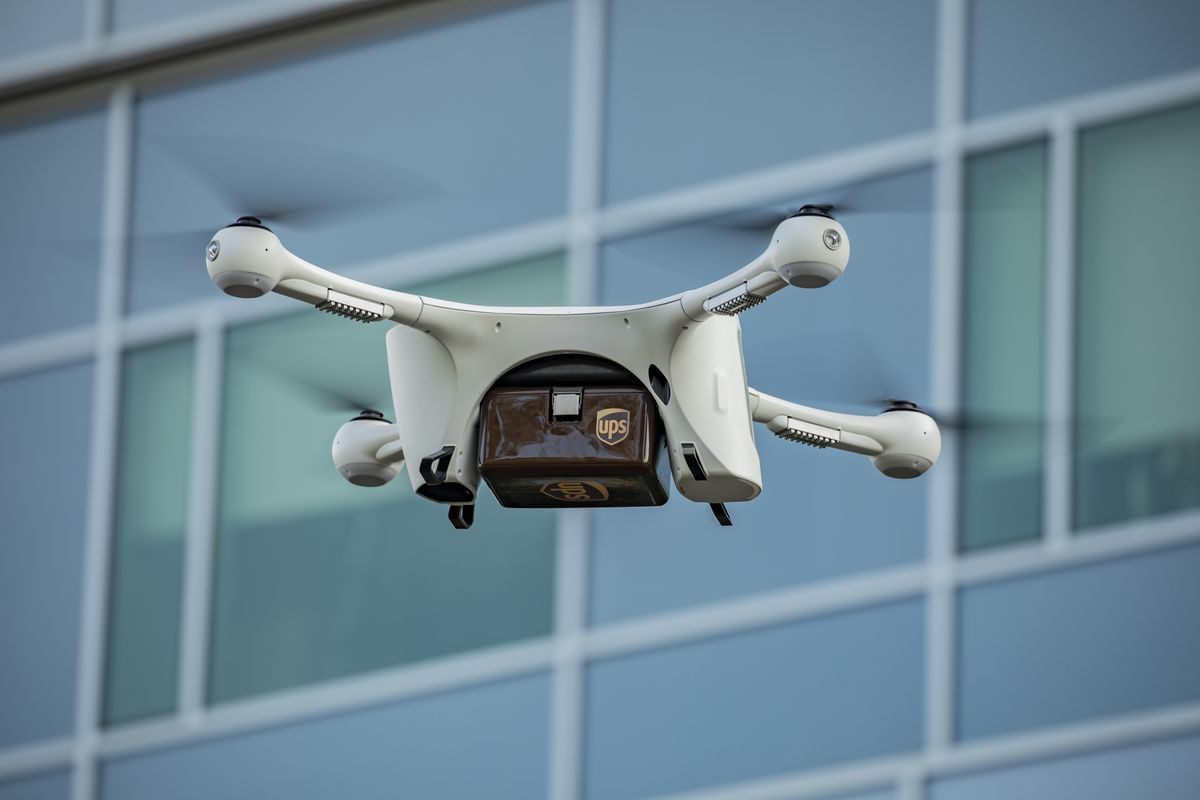drone: (48, 109, 1121, 538)
